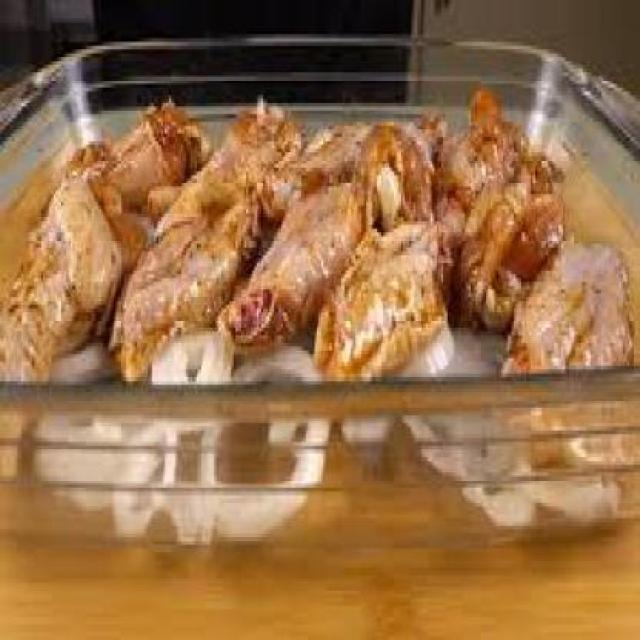chicken wings: (17, 80, 629, 351)
onion rings: (11, 320, 638, 534)
